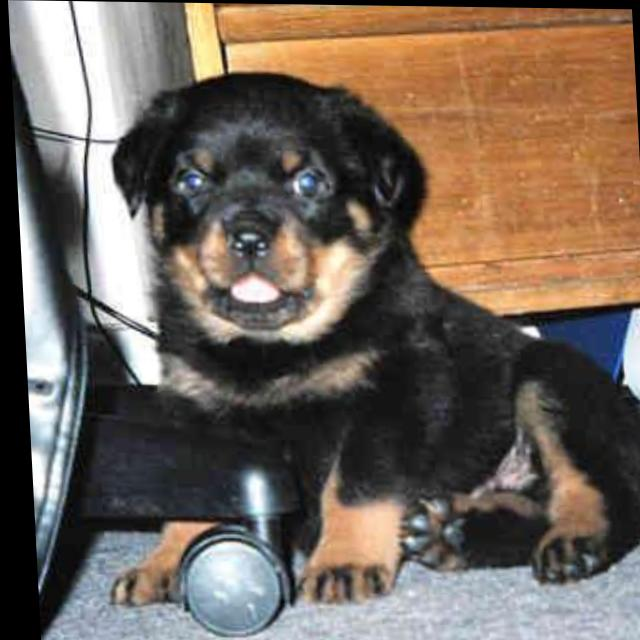rottweiler: (81, 67, 640, 623)
